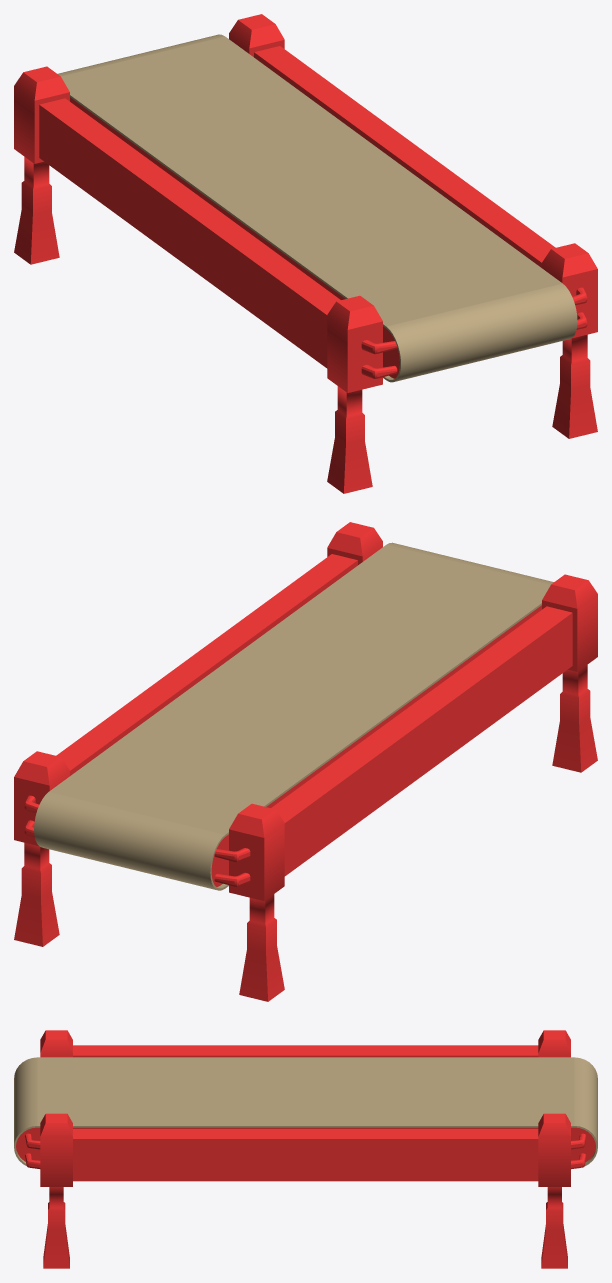
File: Conyevour Belt lp.fbx
3 renders of one model, top to bottom at view 1: azimuth 30°, elevation 25°; view 2: azimuth 150°, elevation 25°; view 3: azimuth 270°, elevation 25°, orthographic. The views are drawn at different scales.
Parts seen in each view (by area): view 1: cinta, cinta transportadora; view 2: cinta, cinta transportadora; view 3: cinta transportadora, cinta.
Boxes of the visible parts, x1,y1,x2,y2 form: cinta: (58, 34, 577, 382); cinta transportadora: (14, 14, 597, 493); cinta: (34, 542, 553, 890); cinta transportadora: (14, 522, 597, 1001); cinta transportadora: (16, 1030, 595, 1268); cinta: (14, 1057, 597, 1168).
Size of the model in its own units: 56.47 by 38.11 by 141.
